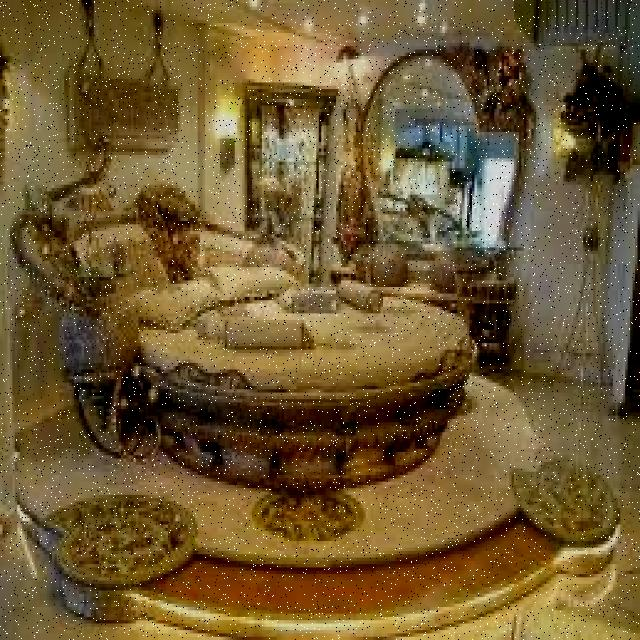bed: (51, 172, 495, 391)
